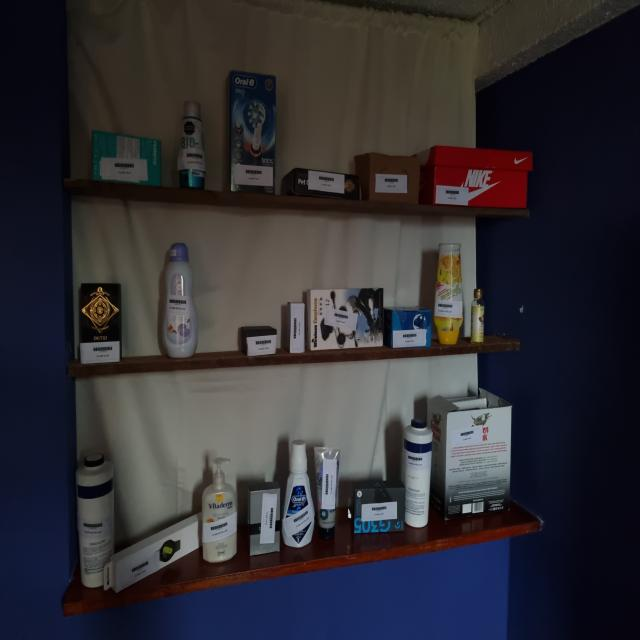botella: (76, 453, 114, 587), (158, 242, 198, 359), (202, 457, 237, 563), (281, 440, 315, 548), (402, 418, 433, 528), (433, 243, 464, 345), (177, 101, 205, 189), (314, 446, 340, 539), (470, 288, 485, 345)
caja: (428, 388, 511, 519), (103, 514, 200, 592), (419, 146, 533, 209), (229, 71, 276, 194), (306, 288, 384, 351), (91, 130, 161, 186), (354, 153, 421, 204), (79, 284, 121, 363), (346, 479, 405, 533), (281, 168, 360, 200), (248, 481, 281, 556), (388, 306, 432, 348), (281, 302, 305, 353), (239, 326, 278, 356)
